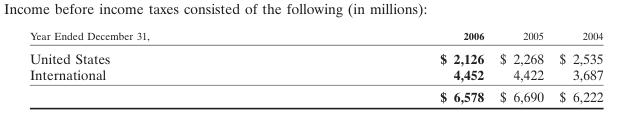table: (28, 29, 602, 104)
table column: (28, 29, 294, 104), (294, 29, 491, 104), (491, 29, 550, 104), (550, 29, 602, 104)
table column header: (28, 29, 602, 45)
table row: (28, 45, 602, 66), (28, 66, 602, 85), (28, 85, 602, 104), (28, 29, 602, 45)
